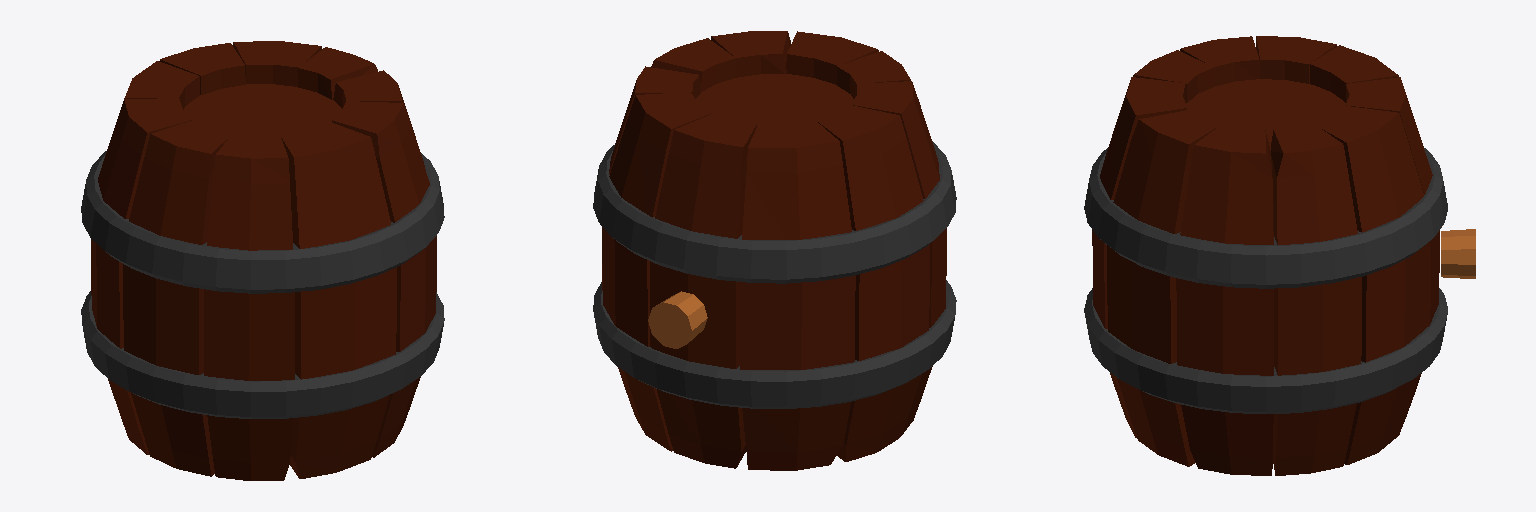
File: Barrel.obj
The picture shows the model from 3 angles: view 1: azimuth 30°, elevation 25°; view 2: azimuth 150°, elevation 25°; view 3: azimuth 270°, elevation 25°; orthographic projection.
Visible parts, largest first — view 1: Barrel; view 2: Barrel; view 3: Barrel.
Boxes of the visible parts, box(x1,y1,x2,y2) form: Barrel: box(81, 41, 444, 480); Barrel: box(593, 31, 956, 470); Barrel: box(1084, 36, 1475, 475).
Bounding box in the file's own units: 2.27 × 2.21 × 2.44.